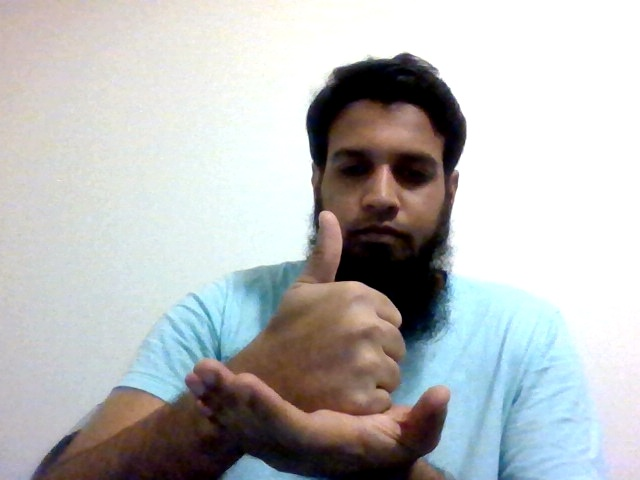help: (184, 207, 454, 477)
